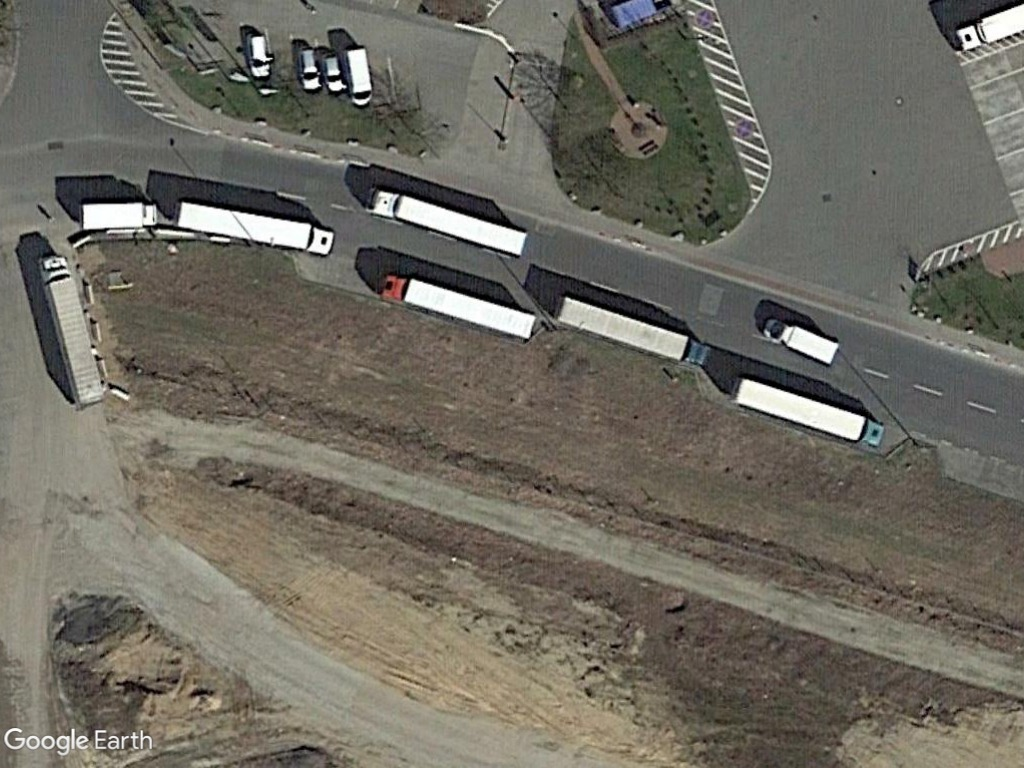longvehicle: (551, 290, 715, 370), (33, 248, 114, 409), (362, 181, 529, 257), (728, 371, 886, 450), (374, 270, 539, 341), (172, 194, 337, 256)
truck: (757, 312, 843, 366), (78, 193, 165, 235)
van: (340, 46, 378, 110), (243, 28, 275, 84)
